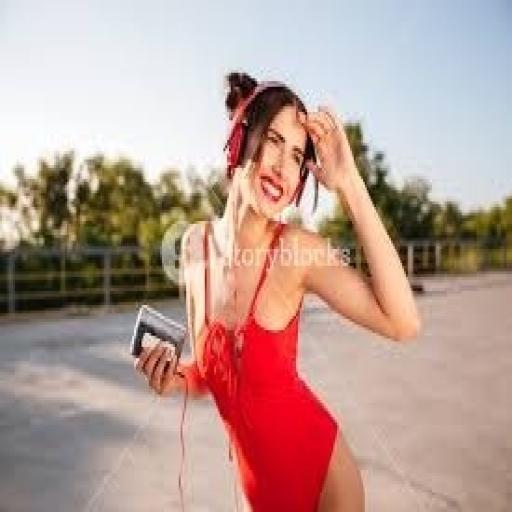listening_to_music: (130, 70, 423, 509)
